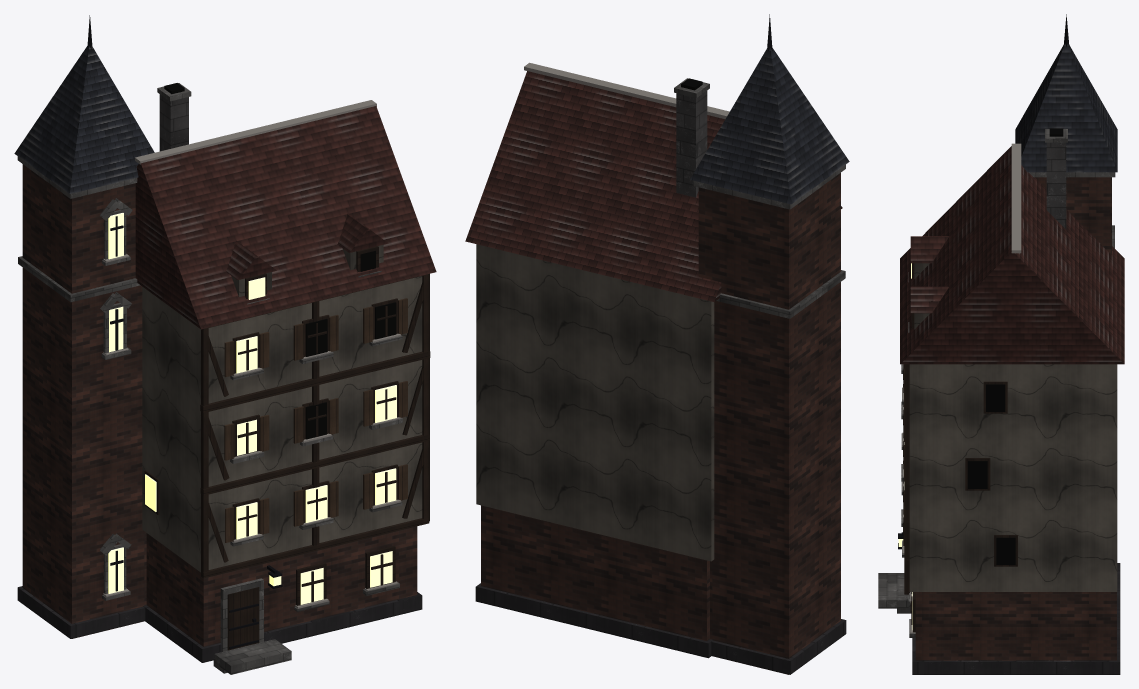
File: CasaB14.gltf
3 views of the same model, side by side, from view 1: azimuth 30°, elevation 25°; view 2: azimuth 150°, elevation 25°; view 3: azimuth 270°, elevation 25° (orthographic). The views are drawn at different scales.
Parts seen in each view (by area): view 1: CasaB14; view 2: CasaB14; view 3: CasaB14.
Boxes of the visible parts, box(x1,y1,x2,y2) form: CasaB14: box(14, 15, 436, 674); CasaB14: box(465, 14, 849, 674); CasaB14: box(878, 14, 1124, 674).
Size of the model in its own units: 12.31 by 23.24 by 9.32.
13 materials, 9 textured.
